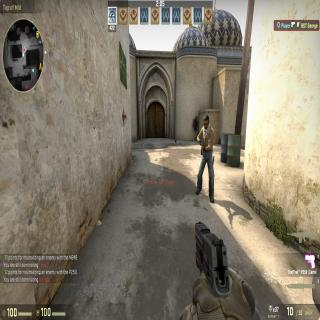T-Body: (194, 114, 216, 202)
T-Head: (202, 114, 210, 131)
